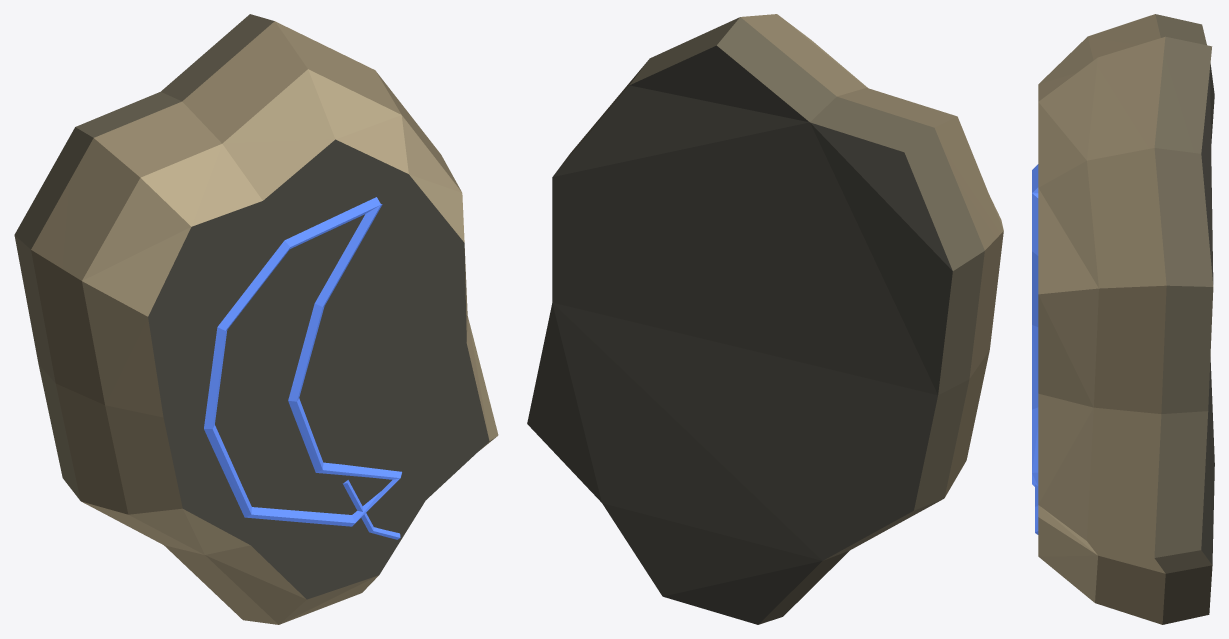
Rendered from FERNSTONE_NIGHT.lo.glb.
3 renders of one model, left to right at view 1: azimuth 30°, elevation 25°; view 2: azimuth 150°, elevation 25°; view 3: azimuth 270°, elevation 25°, orthographic. The views are drawn at different scales.
Visible parts, largest first — view 1: Body_Mesh; view 2: Body_Mesh; view 3: Body_Mesh.
Boxes of the visible parts, bbox=[...] form: Body_Mesh: bbox=[14, 14, 498, 624]; Body_Mesh: bbox=[527, 14, 1003, 624]; Body_Mesh: bbox=[1032, 14, 1214, 624].
Bounding box in the file's own units: 0.2861 × 0.3628 × 0.1054.
1 material, 1 textured.
